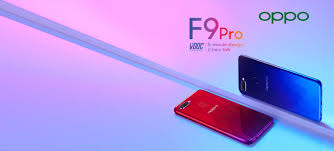oppo: (232, 50, 324, 123), (172, 88, 279, 148)
